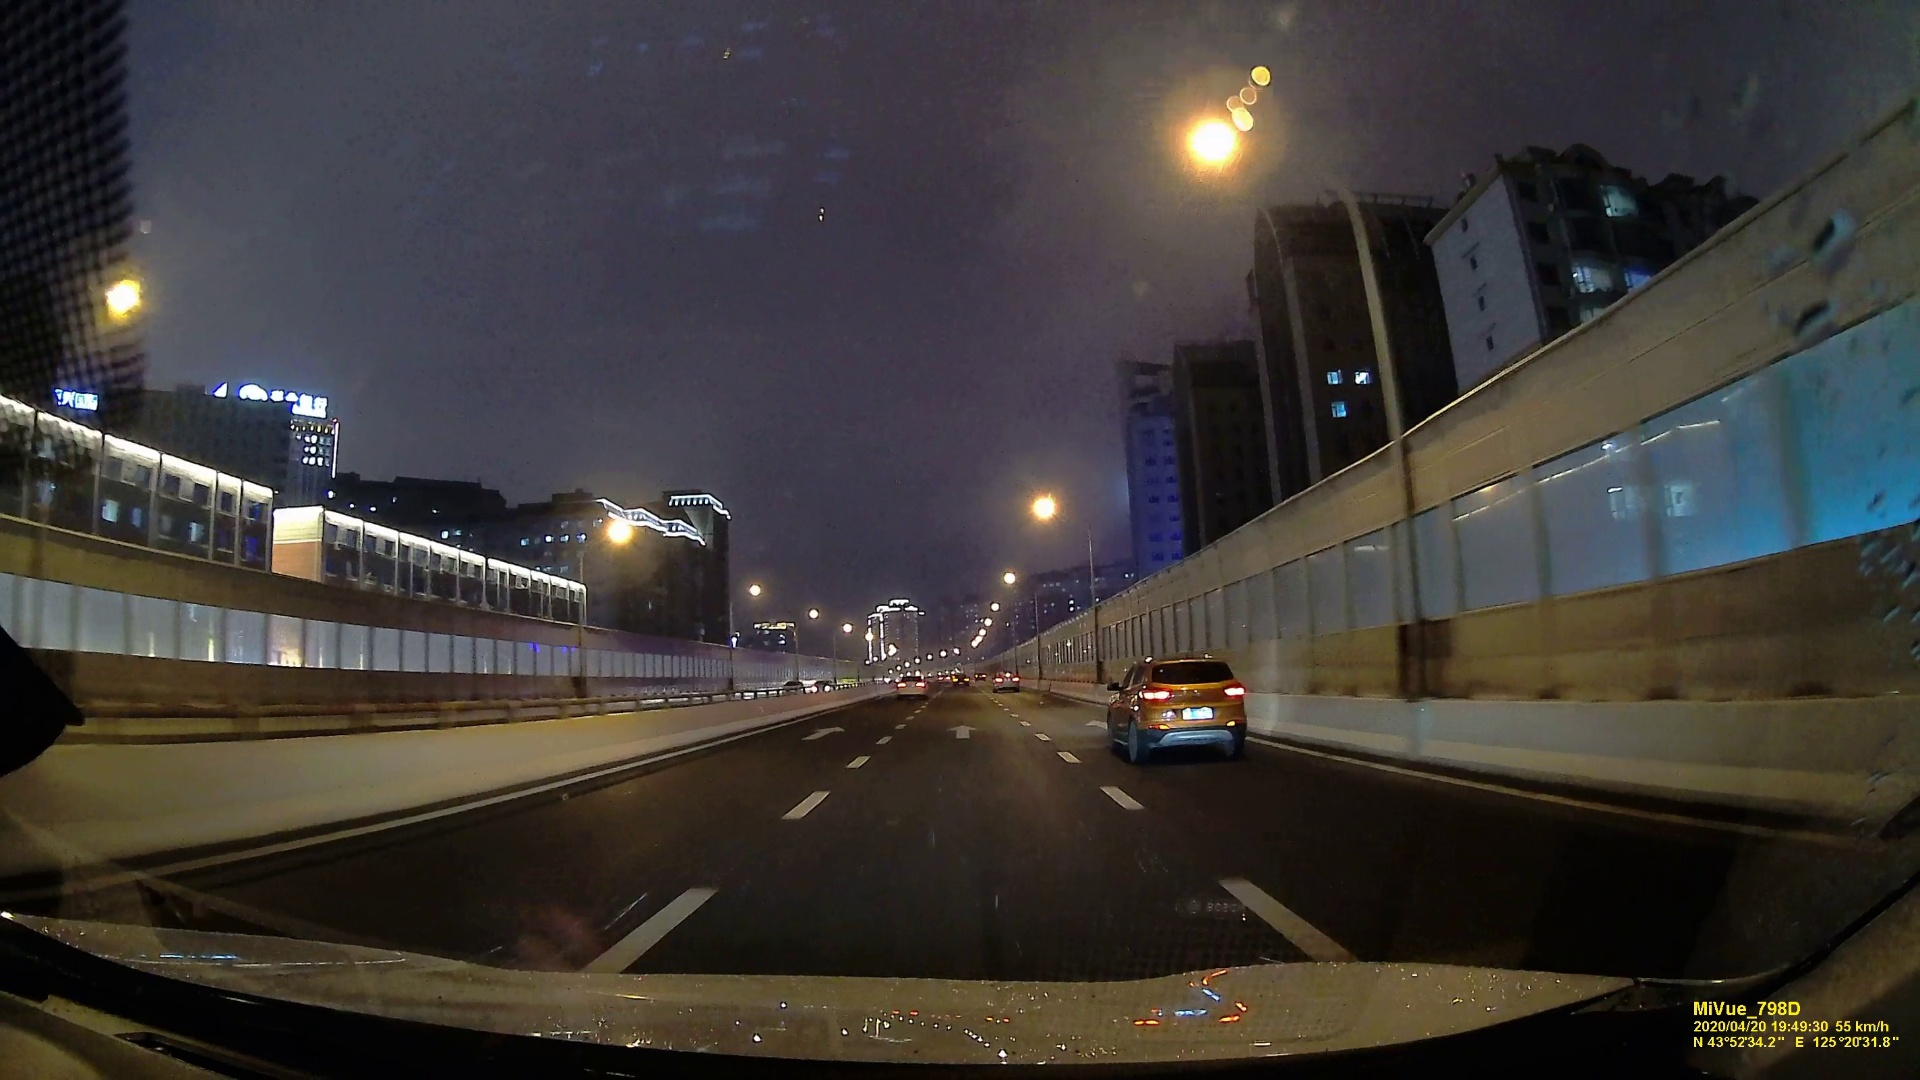vehicle: (1102, 653, 1254, 761), (895, 674, 926, 696), (994, 670, 1021, 690)
